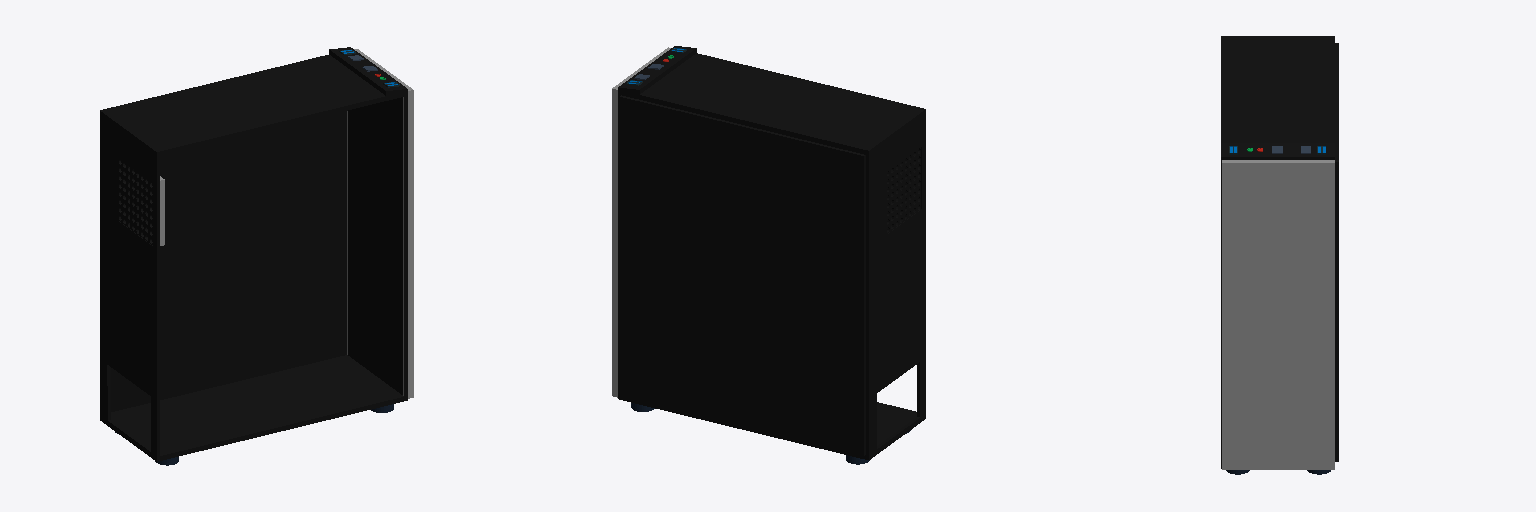
3 views of the same model, side by side, from view 1: azimuth 30°, elevation 25°; view 2: azimuth 150°, elevation 25°; view 3: azimuth 270°, elevation 25° (orthographic).
Parts seen in each view (by area): view 1: Case_Cube.226; view 2: Case_Cube.226; view 3: Case_Cube.226.
Boxes of the visible parts, x1=… form: Case_Cube.226: x1=100, y1=47, x2=413, y2=465; Case_Cube.226: x1=612, y1=46, x2=925, y2=464; Case_Cube.226: x1=1221, y1=36, x2=1338, y2=474.
Bounding box in the file's own units: 8.4 × 10.12 × 3.33.
Materials: 3 (1 with a texture image).